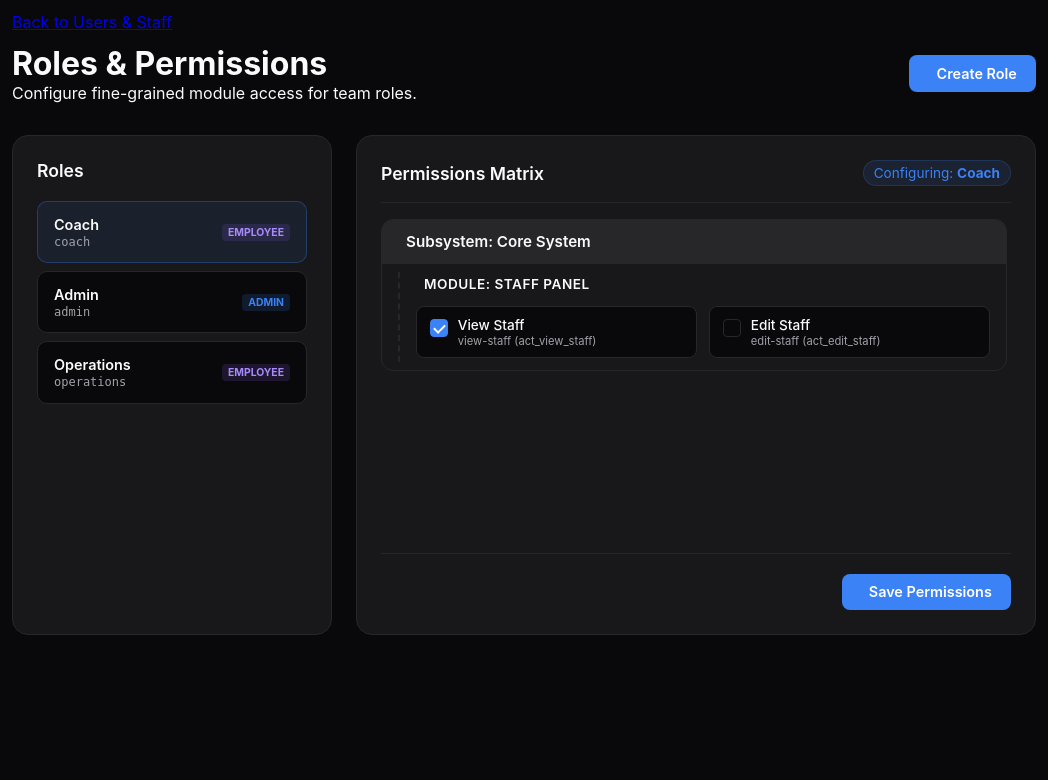
Test: Roles and Permissions Page tests › should save updated permissions successfully
# Check "Edit Staff" for Coach (initially unchecked)
Click the checkbox labelled "Edit Staff edit-staff (act_edit_staff)" at coordinates (802, 332), box [723, 317, 881, 348]
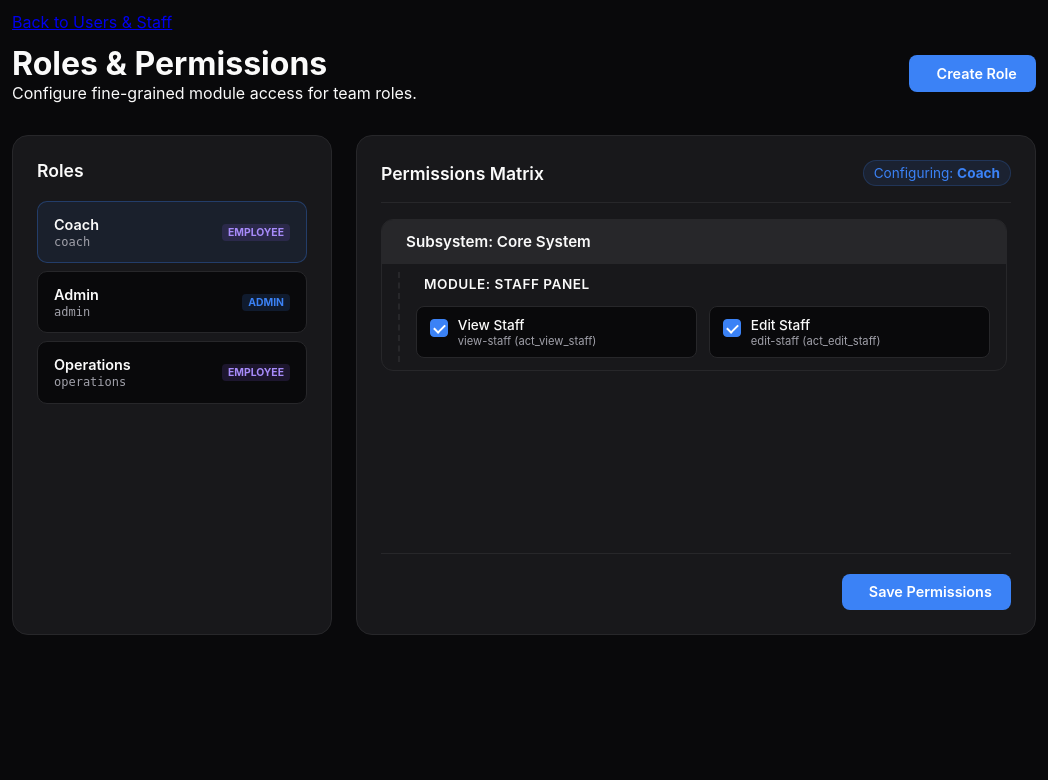
Check: the checkbox labelled "Edit Staff edit-staff (act_edit_staff)" is checked, box [723, 317, 881, 348]
Click the button "Save Permissions" at coordinates (926, 592), box [842, 574, 1011, 610]
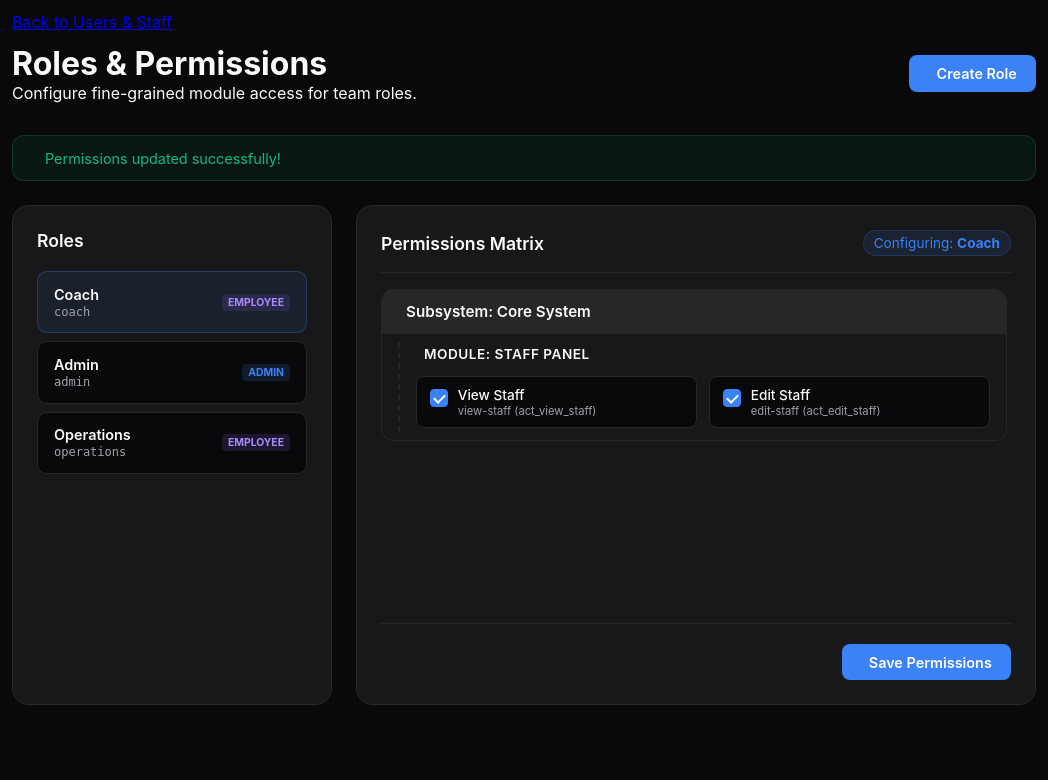
Check: the text "Permissions updated successfully!" is shown, box [45, 150, 281, 167]
